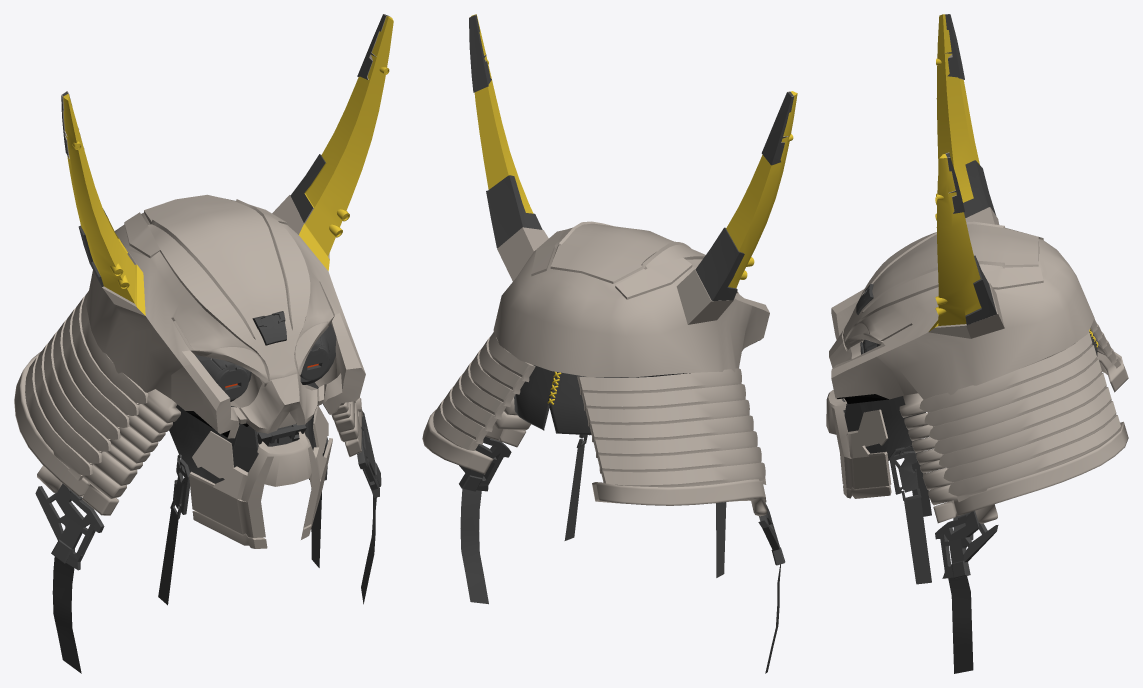
File: samurai_helmet.glb
The picture shows the model from 3 angles, left to right: view 1: azimuth 30°, elevation 25°; view 2: azimuth 150°, elevation 25°; view 3: azimuth 270°, elevation 25°; orthographic projection. The views are drawn at different scales.
Visible parts, largest first — view 1: Cube.021, Plane.002, Plane.003, Plane.007, Cube.002, Plane, Cube, Plane.009, Cube.003; view 2: Cube.021, Plane.002, Cube, Plane.007, Plane.006, Plane.009, Cube.002; view 3: Cube.021, Plane.002, Cube, Plane.003, Plane.007, Plane.009, Cube.002, Plane.
Part boxes in pixels (bbox=[...]): Cube.021: bbox=[61, 14, 393, 438]; Plane.002: bbox=[25, 291, 361, 480]; Plane.003: bbox=[189, 406, 332, 548]; Plane.007: bbox=[35, 411, 381, 673]; Cube.002: bbox=[83, 389, 358, 498]; Plane: bbox=[169, 404, 323, 483]; Cube: bbox=[14, 351, 363, 515]; Plane.009: bbox=[158, 437, 328, 605]; Cube.003: bbox=[252, 311, 286, 345]; Cube.021: bbox=[469, 14, 797, 377]; Plane.002: bbox=[433, 332, 766, 487]; Cube: bbox=[422, 409, 767, 516]; Plane.007: bbox=[459, 436, 785, 673]; Plane.006: bbox=[514, 365, 622, 434]; Plane.009: bbox=[564, 434, 726, 577]; Cube.002: bbox=[494, 397, 531, 430]; Cube.021: bbox=[829, 14, 1094, 403]; Plane.002: bbox=[919, 318, 1120, 501]; Cube: bbox=[933, 351, 1128, 523]; Plane.003: bbox=[826, 390, 891, 498]; Plane.007: bbox=[935, 511, 998, 673]; Plane.009: bbox=[889, 439, 931, 584]; Cube.002: bbox=[899, 393, 957, 505]; Plane: bbox=[842, 396, 925, 460].
Bounding box in the file's own units: 8.48 × 14.5 × 7.51.
